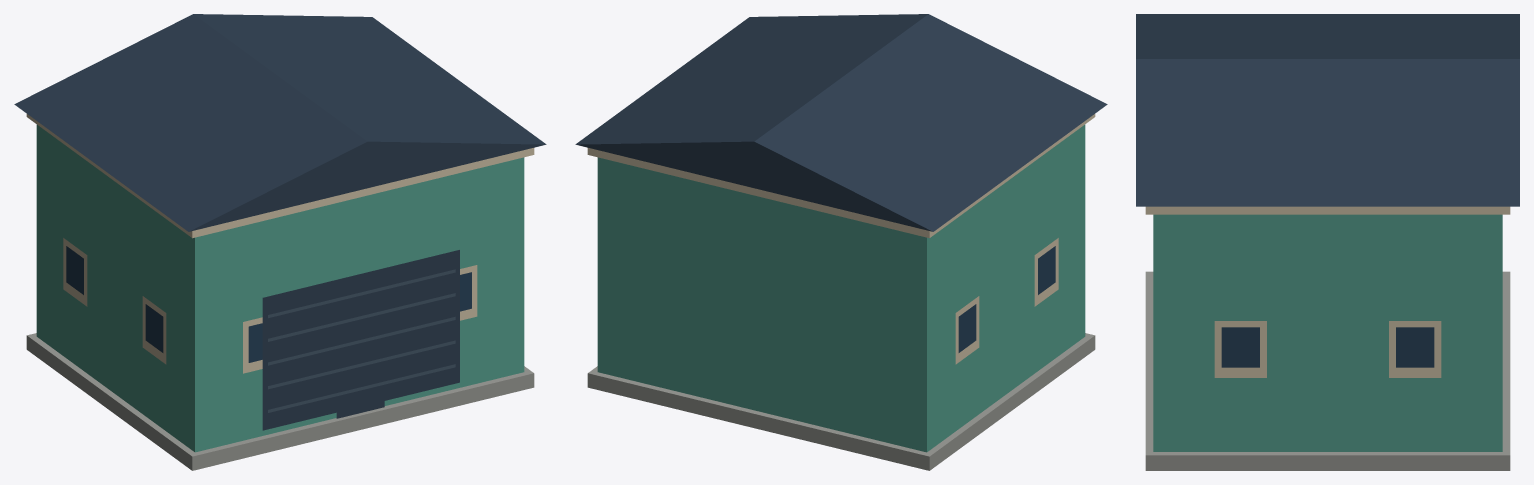
Rendered from workshop-teal.glb.
The picture shows the model from 3 angles, left to right: view 1: azimuth 30°, elevation 25°; view 2: azimuth 150°, elevation 25°; view 3: azimuth 270°, elevation 25°; orthographic projection. The views are drawn at different scales.
Visible parts, largest first — view 1: asset_root; view 2: asset_root; view 3: asset_root.
Boxes of the visible parts, left/top/right/bottom form: asset_root: left=14, top=14, right=546, bottom=470; asset_root: left=575, top=14, right=1107, bottom=470; asset_root: left=1136, top=14, right=1519, bottom=470.
Size of the model in its own units: 5.22 by 4.05 by 4.4.
